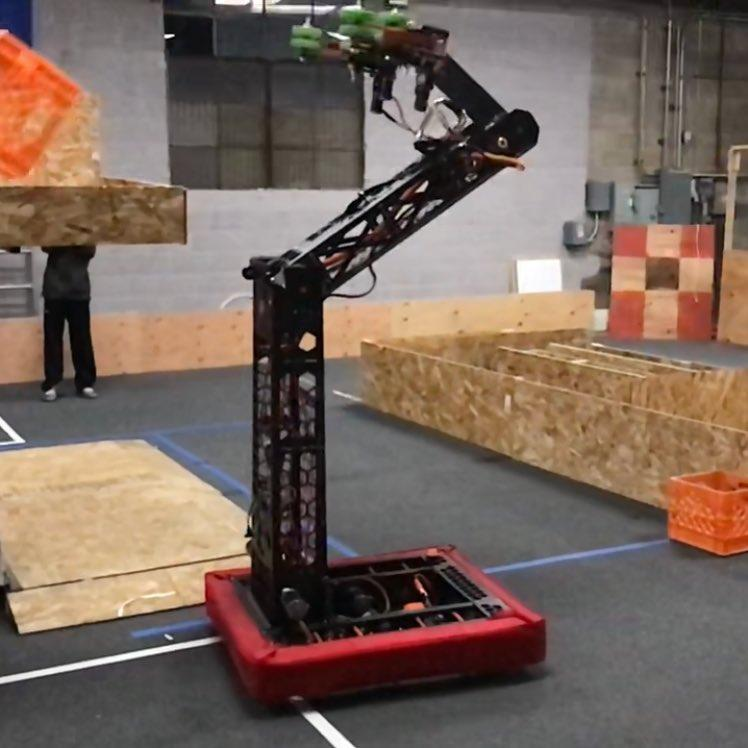robot: (193, 0, 566, 718)
